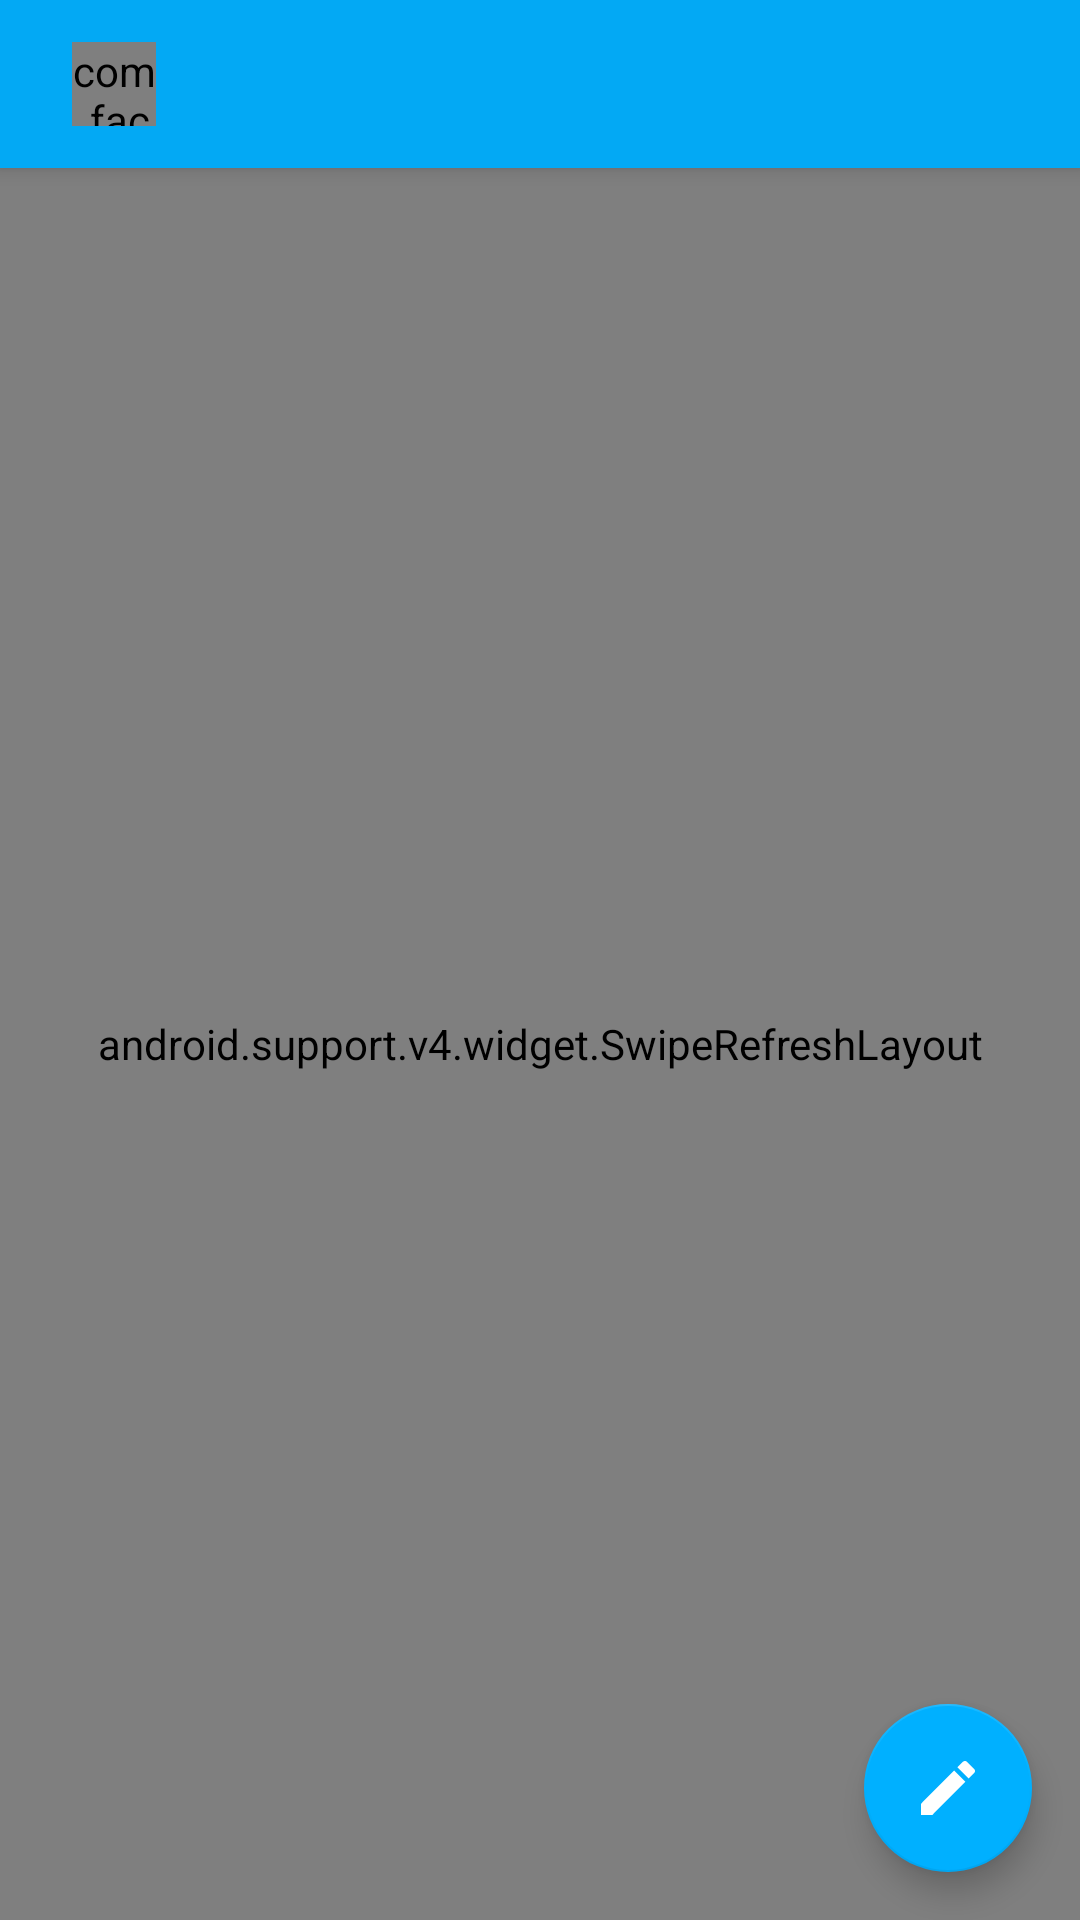

Screen size 1080*1920. Icon name, then its box in pixels as region(x1, y1, x2, y2):
create: region(864, 1704, 1032, 1872)
